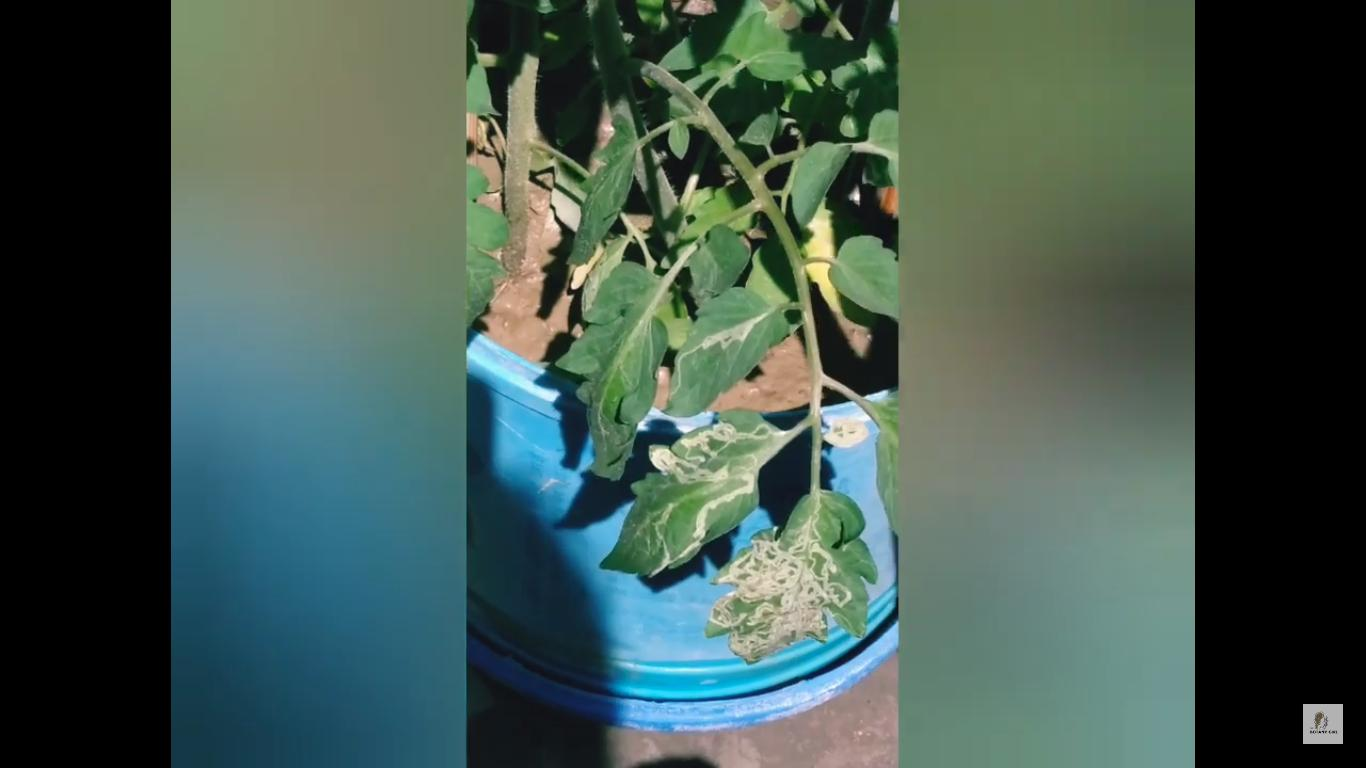Healthy: (827, 235, 898, 320), (793, 141, 851, 229)
Leaf_Miner: (598, 408, 785, 581), (706, 487, 879, 664), (658, 288, 791, 418)
